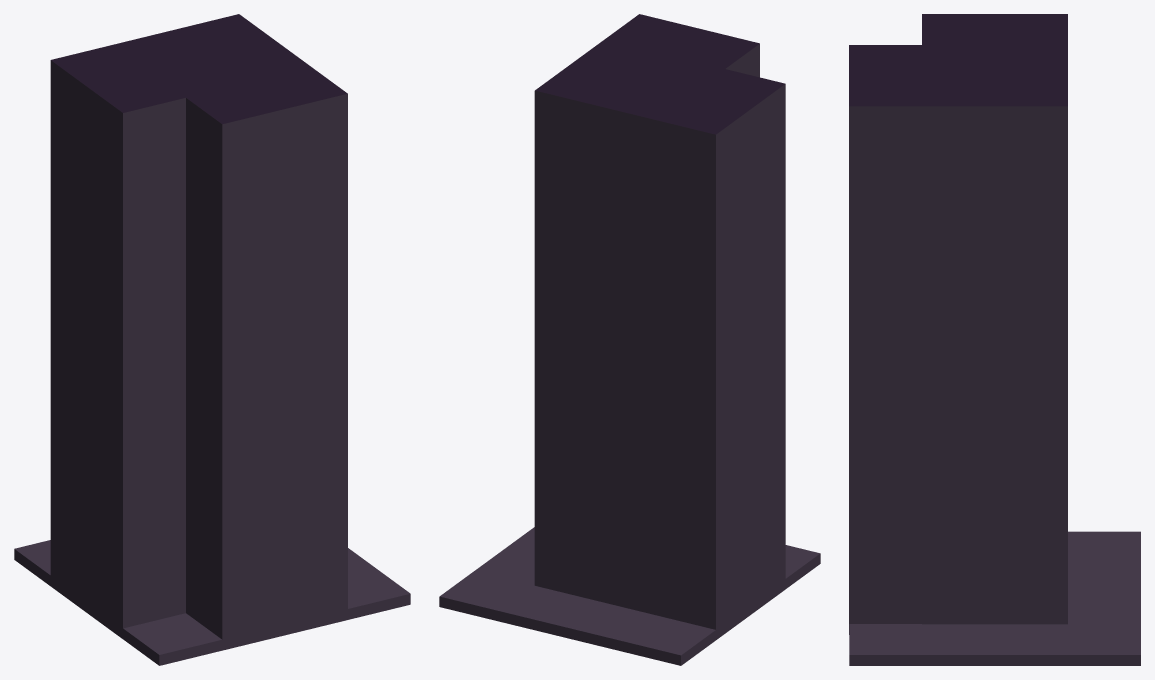
The model's file is 2-corner_purple.dae.
The picture shows the model from 3 angles, left to right: view 1: azimuth 30°, elevation 25°; view 2: azimuth 150°, elevation 25°; view 3: azimuth 270°, elevation 25°; orthographic projection. The views are drawn at different scales.
Parts seen in each view (by area): view 1: corner_MSH; view 2: corner_MSH; view 3: corner_MSH.
Part boxes in pixels (bbox=[...]): corner_MSH: bbox=[14, 14, 410, 665]; corner_MSH: bbox=[439, 14, 820, 665]; corner_MSH: bbox=[849, 14, 1140, 665].
Size of the model in its own units: 1 by 2 by 1.
